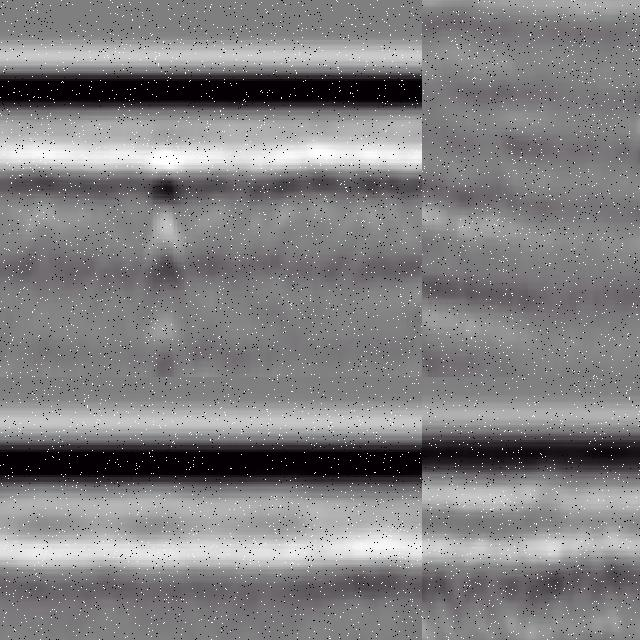crack: (139, 177, 182, 378), (423, 18, 448, 265)
loose: (423, 547, 628, 640)
